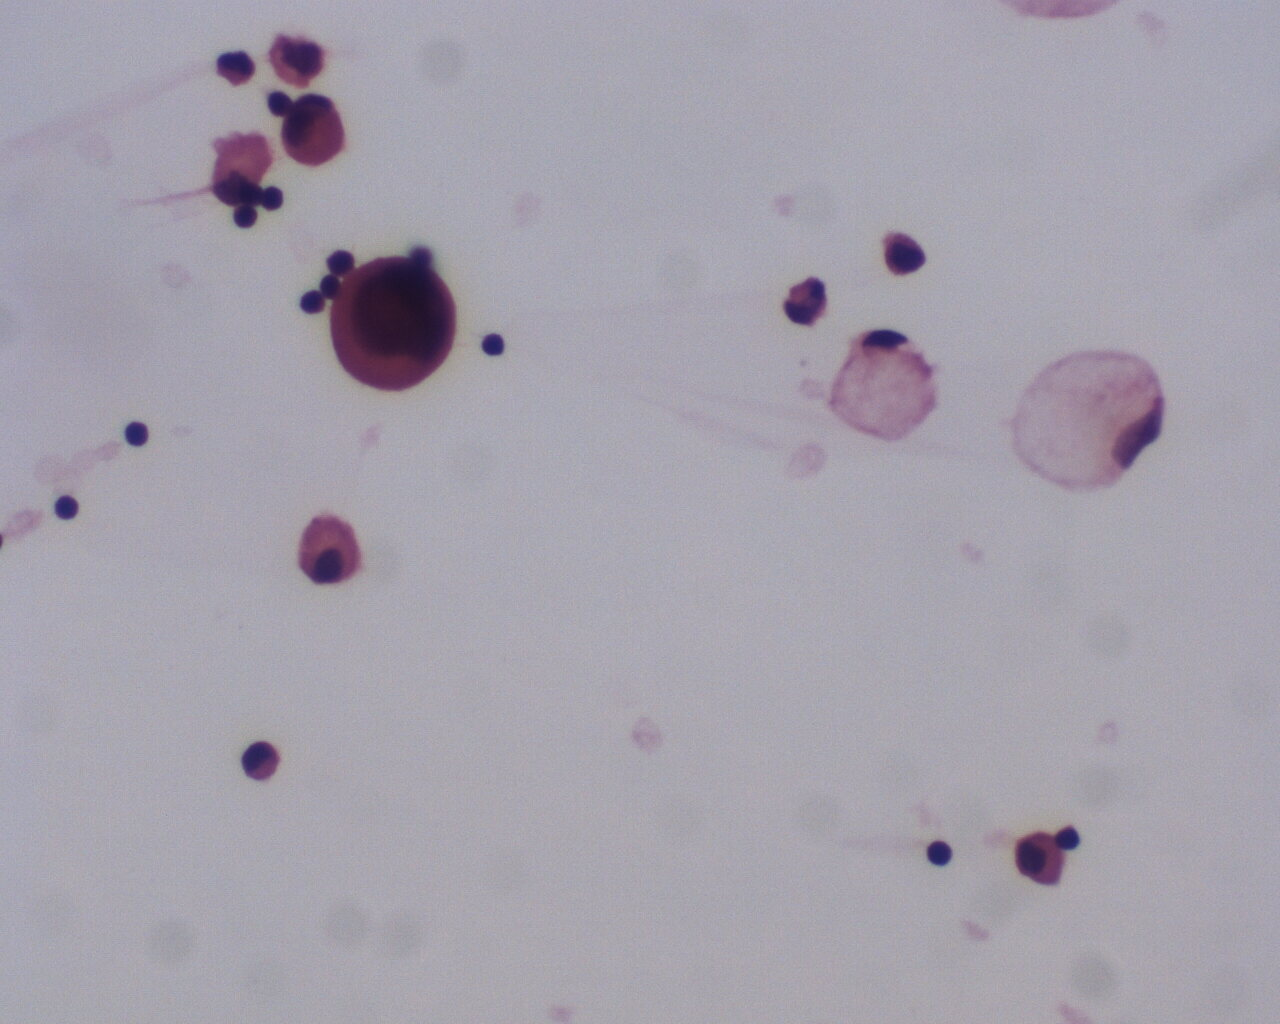ab: (331, 258, 466, 395)
histo: (1015, 338, 1170, 493), (819, 315, 945, 452)
lymph: (918, 832, 961, 875), (115, 412, 156, 456), (47, 490, 86, 529), (478, 327, 513, 363)
meso: (280, 88, 355, 169), (290, 517, 367, 589), (1013, 823, 1071, 889)
